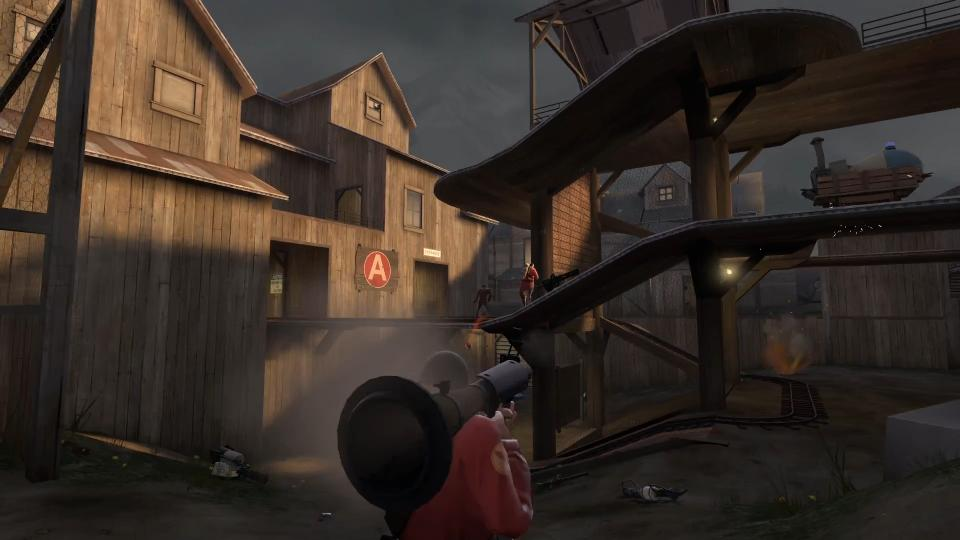Enemy: (338, 350, 532, 540), (520, 263, 537, 305), (474, 284, 490, 315)
